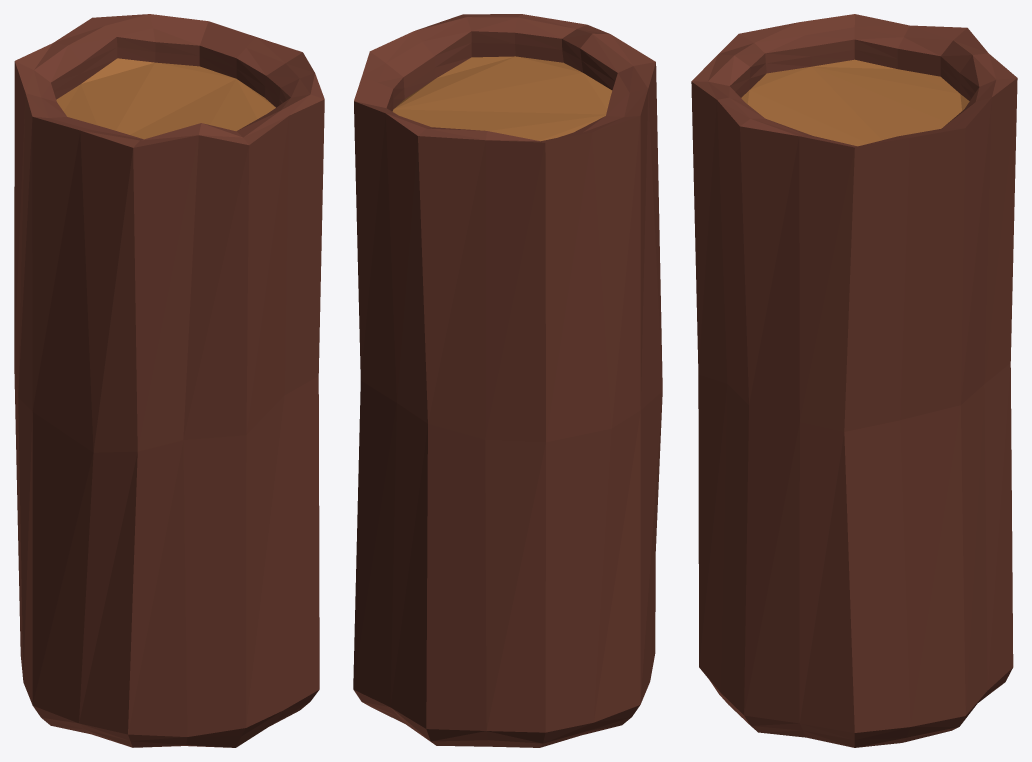
The model's file is obstackle_1.fbx.
3 views of the same model, side by side, from view 1: azimuth 30°, elevation 25°; view 2: azimuth 150°, elevation 25°; view 3: azimuth 270°, elevation 25° (orthographic).
Visible parts, largest first — view 1: Cylinder; view 2: Cylinder; view 3: Cylinder.
Boxes of the visible parts, x1,y1,x2,y2 form: Cylinder: (14, 14, 324, 747); Cylinder: (353, 14, 662, 747); Cylinder: (691, 14, 1017, 747).
Bounding box in the file's own units: 201 × 443 × 209.
